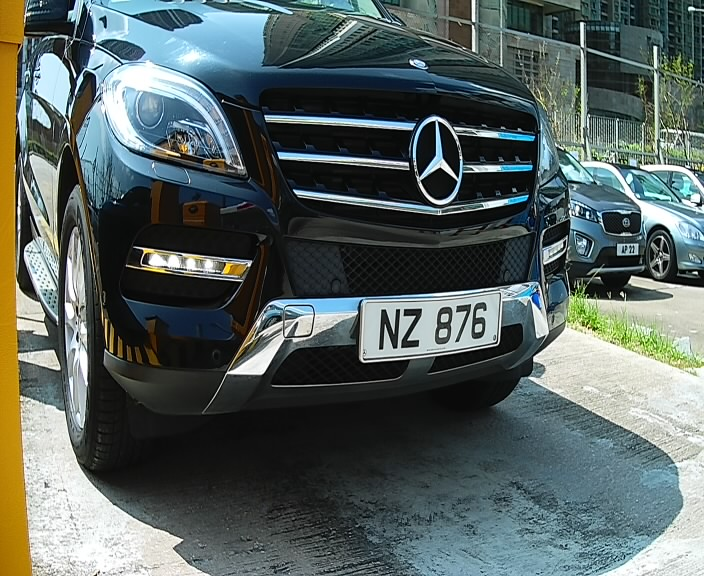License Plate: (351, 284, 506, 373)
